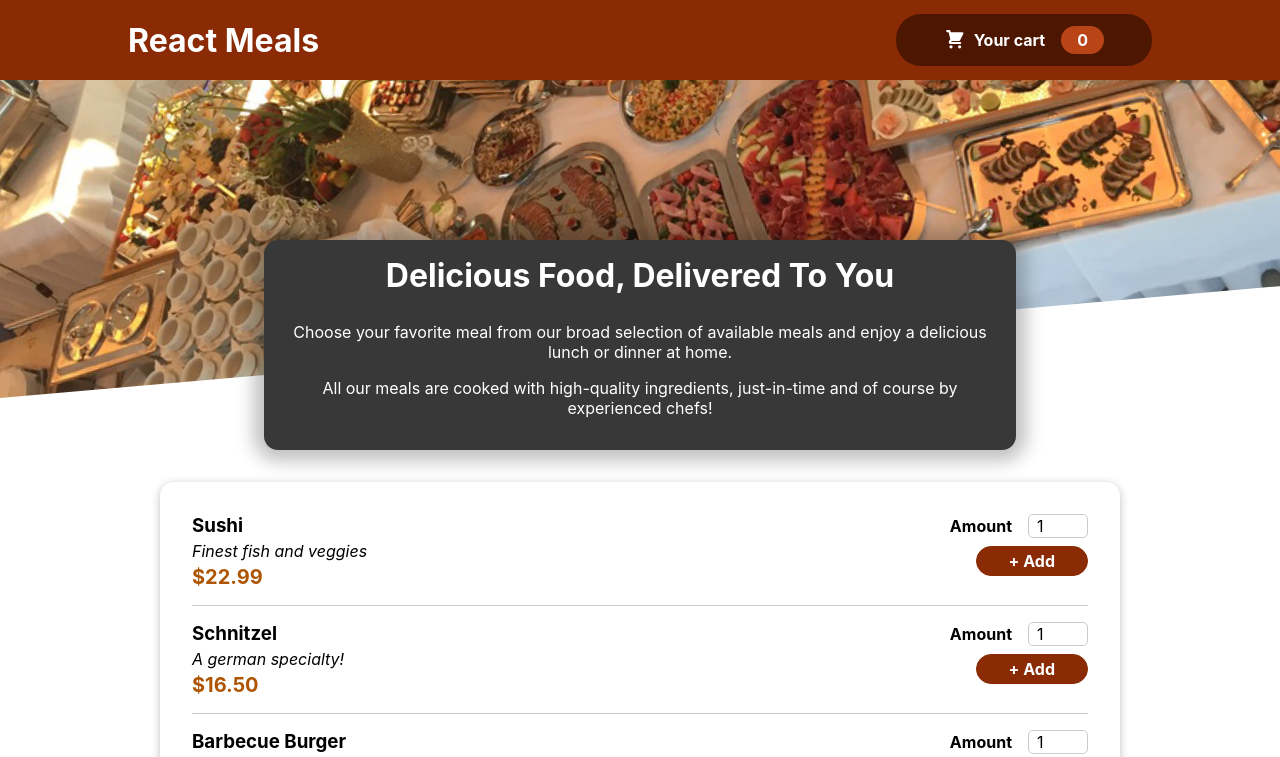
it: shows modal window when clicking Cart button
Click the button "Your cart 0": (1024, 40) [896, 14, 1152, 66]
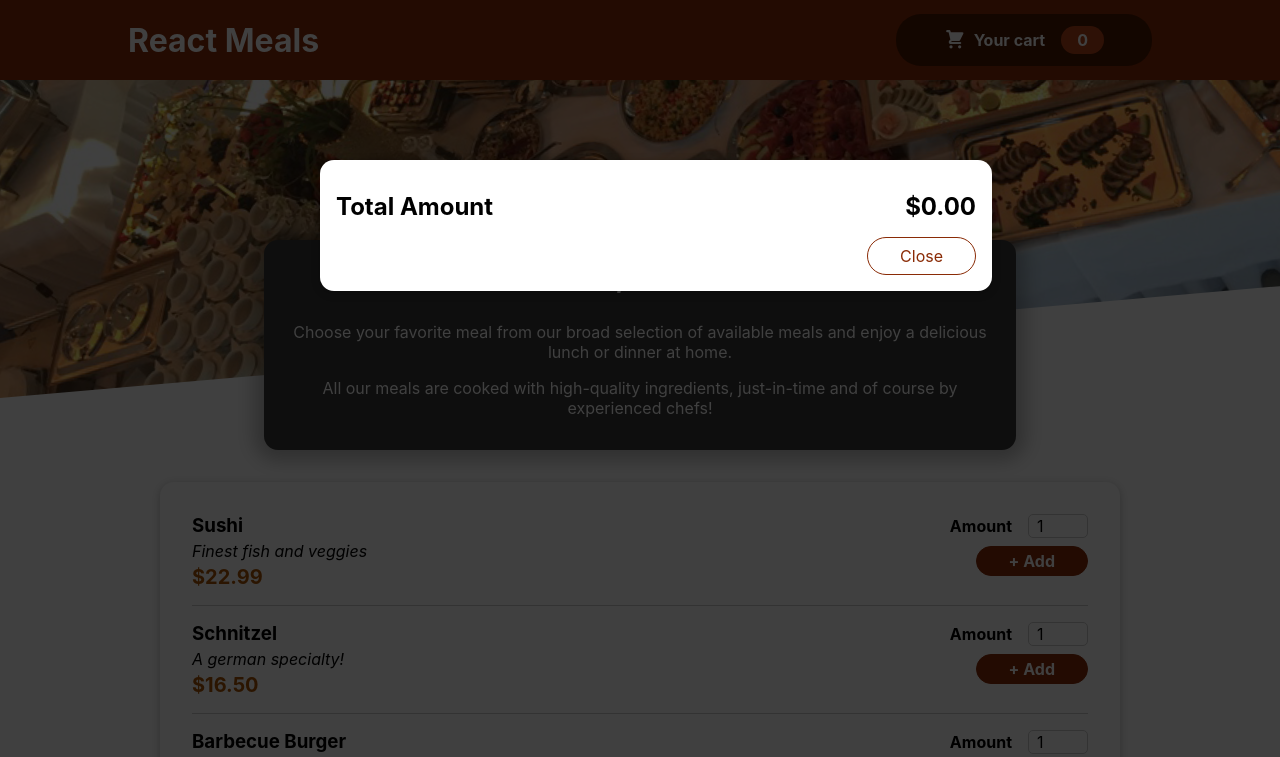
Check: the text "Total Amount" is shown, box [336, 192, 493, 221]
